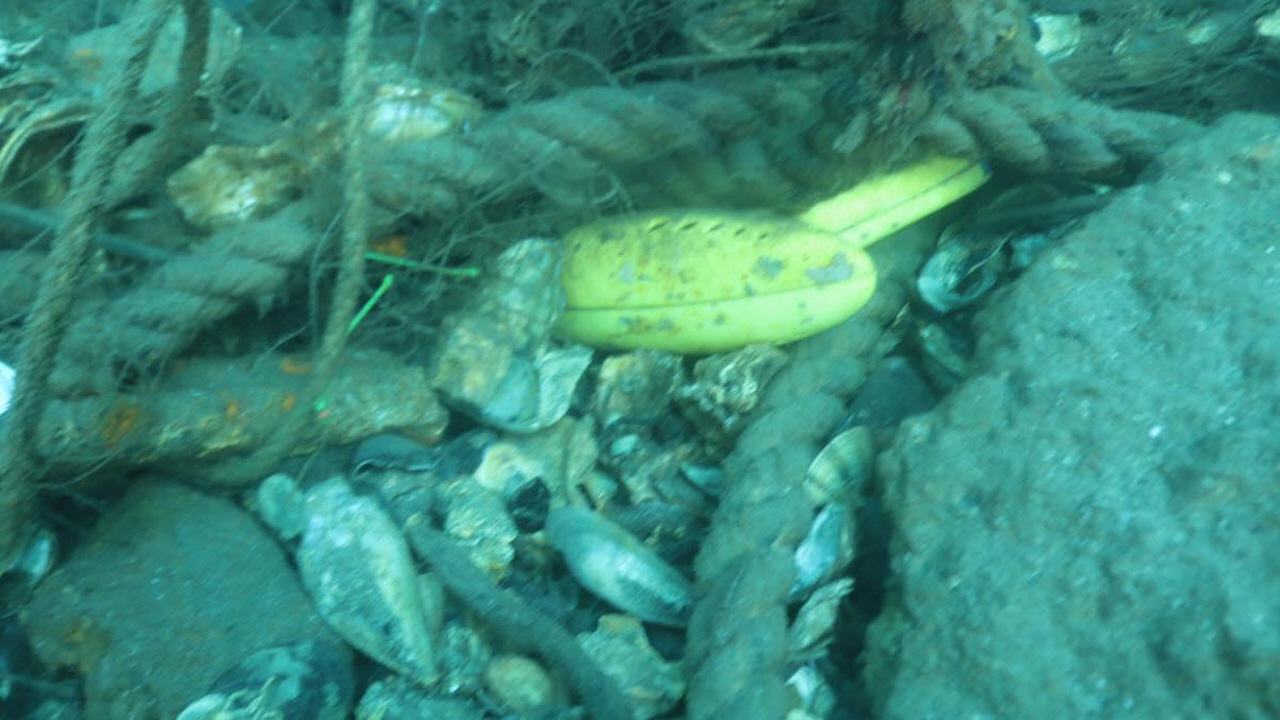bundle of ropes: (0, 1, 389, 566)
rope: (37, 58, 1207, 406), (673, 198, 945, 720)
